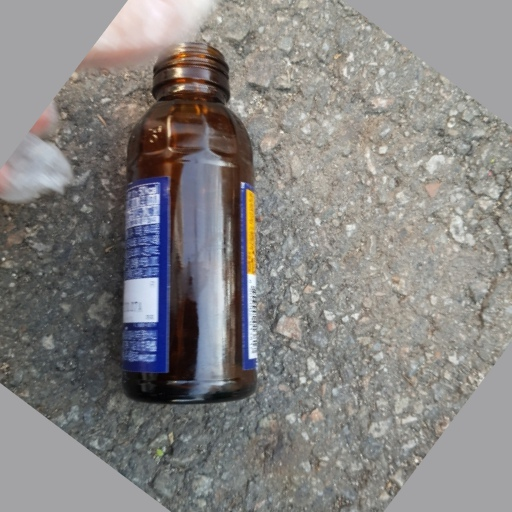Glass_3: (117, 44, 257, 404)
